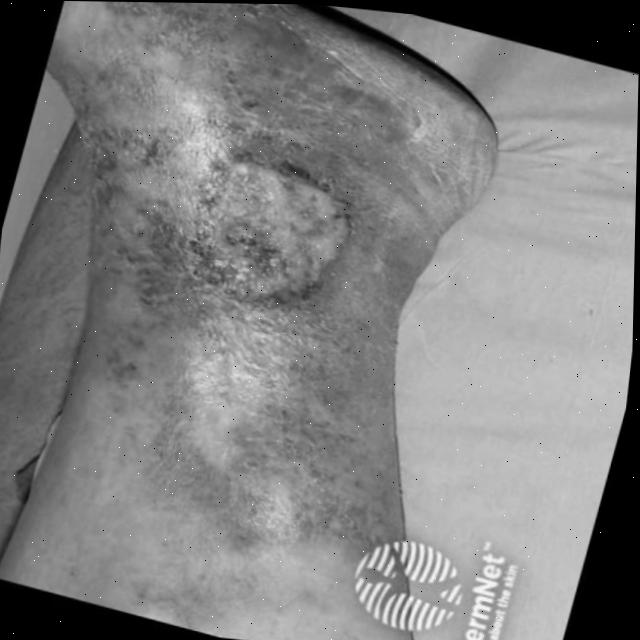Eczema: (73, 21, 418, 551)
